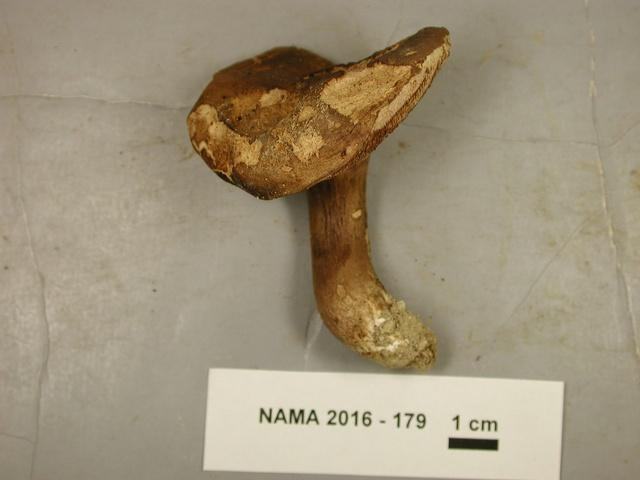Non-edible Mushroom: (185, 23, 452, 370)
